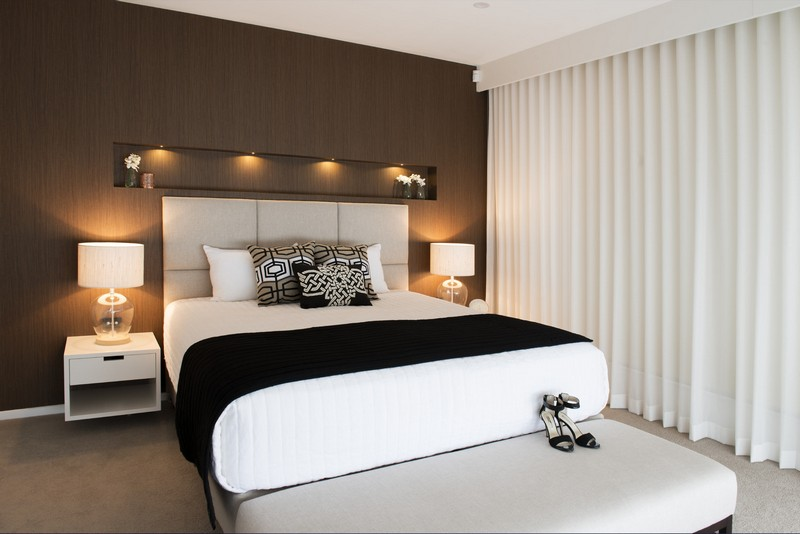bed: (159, 193, 616, 493)
lamp: (75, 238, 146, 350), (428, 240, 477, 307)
